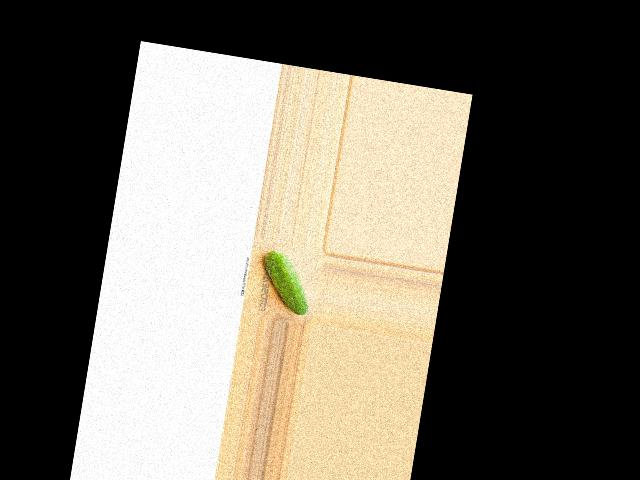cucumber: (256, 248, 317, 316)
